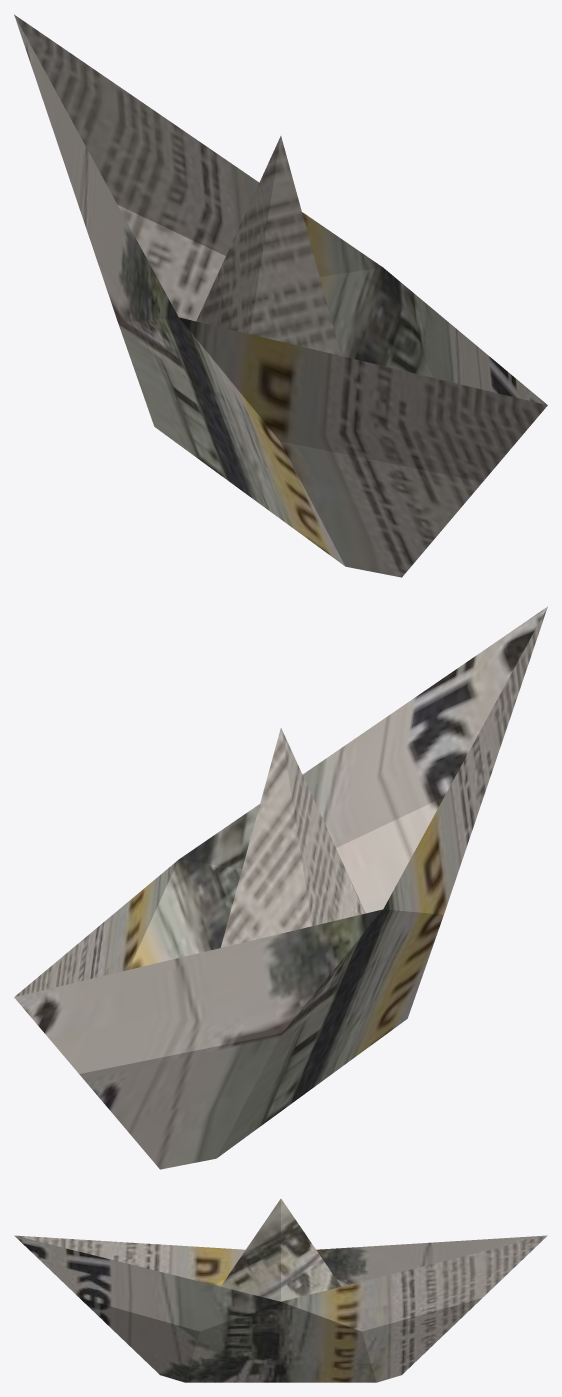
File: paper_boat.glb
3 views of the same model, one above another, from view 1: azimuth 30°, elevation 25°; view 2: azimuth 150°, elevation 25°; view 3: azimuth 270°, elevation 25° (orthographic). The views are drawn at different scales.
Visible parts, largest first — view 1: PaperBoat; view 2: PaperBoat; view 3: PaperBoat.
Part boxes in pixels (bbox=[...]): PaperBoat: bbox=[14, 14, 547, 577]; PaperBoat: bbox=[14, 606, 547, 1169]; PaperBoat: bbox=[14, 1199, 547, 1382].
Bounding box in the file's own units: 0.1747 × 0.2889 × 0.7903.
Materials: 1 (1 with a texture image).
